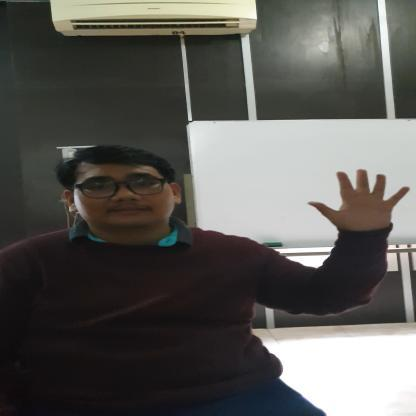Halo: (302, 163, 412, 234)
